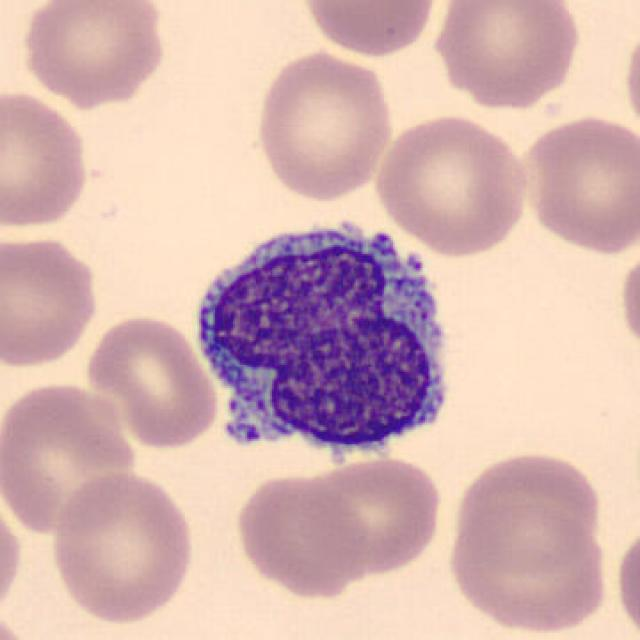Lymphocyte: (183, 203, 466, 476)
Monocyte: (181, 205, 466, 476)
RBC: (46, 467, 198, 626), (372, 109, 532, 259), (444, 495, 614, 635), (0, 376, 142, 540), (250, 46, 396, 203), (448, 446, 606, 578), (82, 310, 222, 452), (295, 453, 445, 580), (514, 111, 638, 257), (231, 469, 368, 599), (428, 0, 585, 111), (18, 0, 169, 108), (0, 231, 103, 372), (0, 86, 94, 233), (297, 0, 443, 60), (611, 518, 640, 639), (0, 490, 25, 622), (615, 242, 640, 362), (620, 16, 640, 143)
